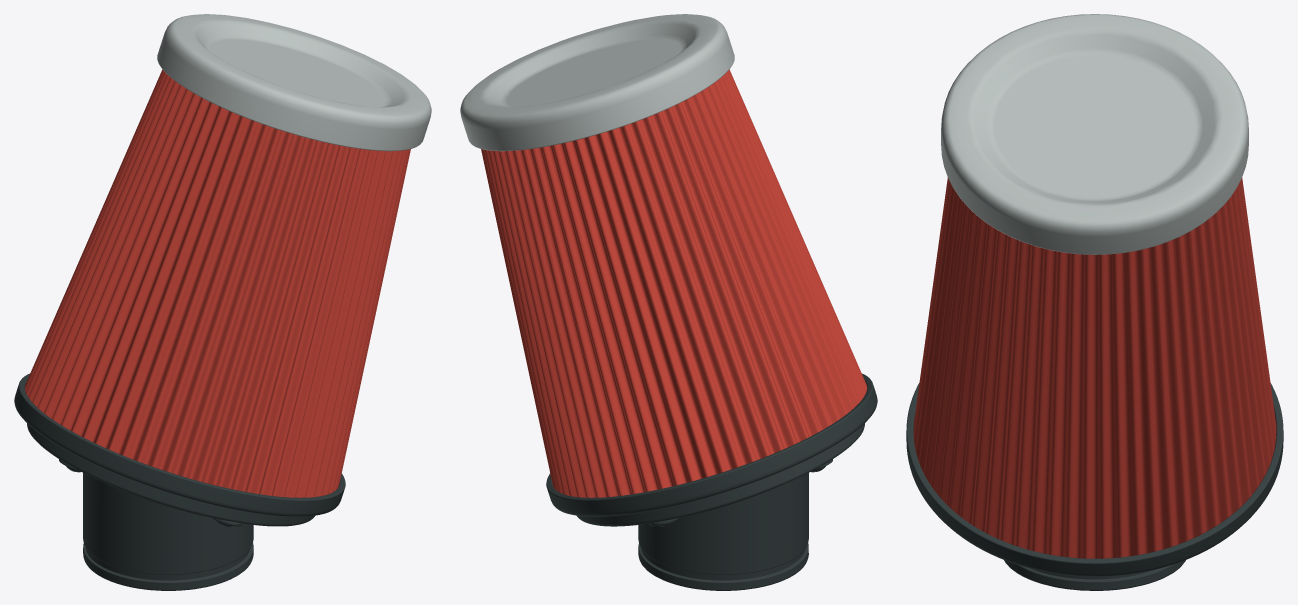
Rendered from airSystem_air_filter_c01.glb.
3 views of the same model, side by side, from view 1: azimuth 30°, elevation 25°; view 2: azimuth 150°, elevation 25°; view 3: azimuth 270°, elevation 25° (orthographic). The views are drawn at different scales.
Size of the model in its own units: 0.1127 by 0.144 by 0.0894.
